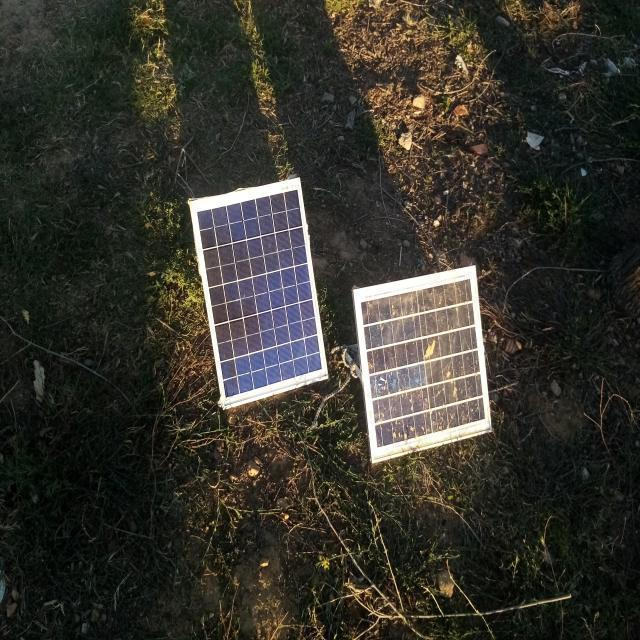Normal Solar Panel: (191, 179, 328, 407)
